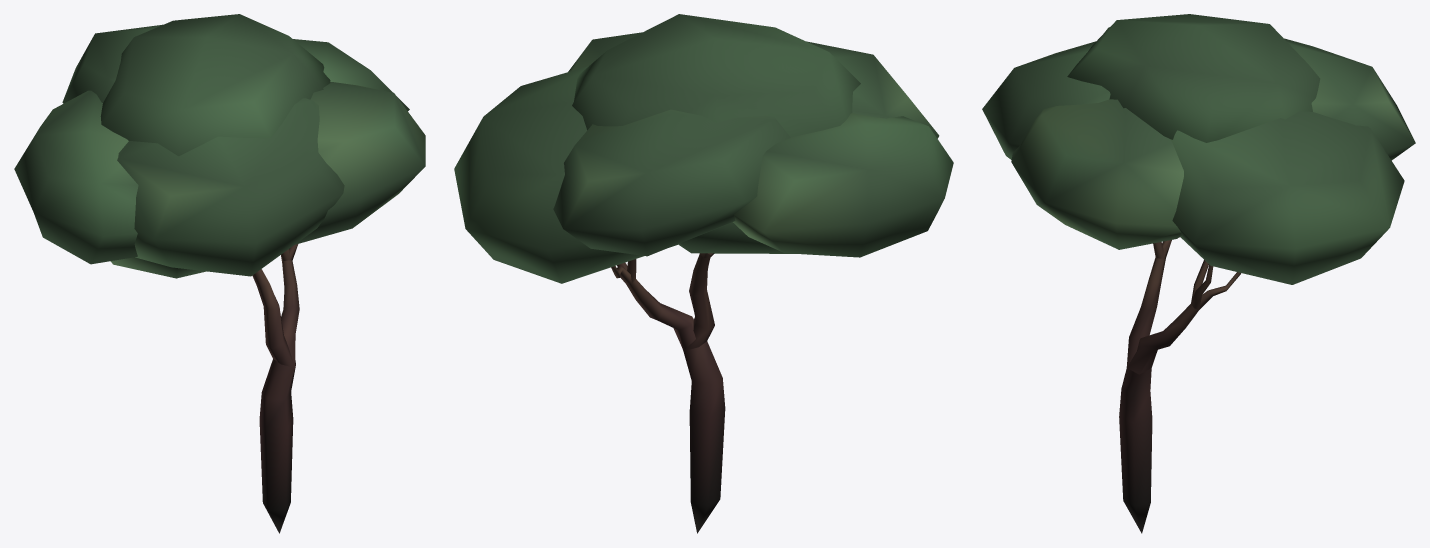
3 views of the same model, side by side, from view 1: azimuth 30°, elevation 25°; view 2: azimuth 150°, elevation 25°; view 3: azimuth 270°, elevation 25° (orthographic). The views are drawn at different scales.
Visible parts, largest first — view 1: treeDecid.015; view 2: treeDecid.015; view 3: treeDecid.015.
Part boxes in pixels (<box>): treeDecid.015: <box>14,14,425,533</box>; treeDecid.015: <box>454,14,953,533</box>; treeDecid.015: <box>982,14,1415,533</box>.
Size of the model in its own units: 0.4232 by 0.5 by 0.4038.
